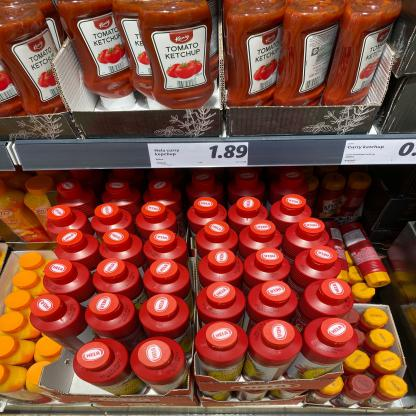prtg: (148, 143, 249, 169), (342, 140, 416, 166)
